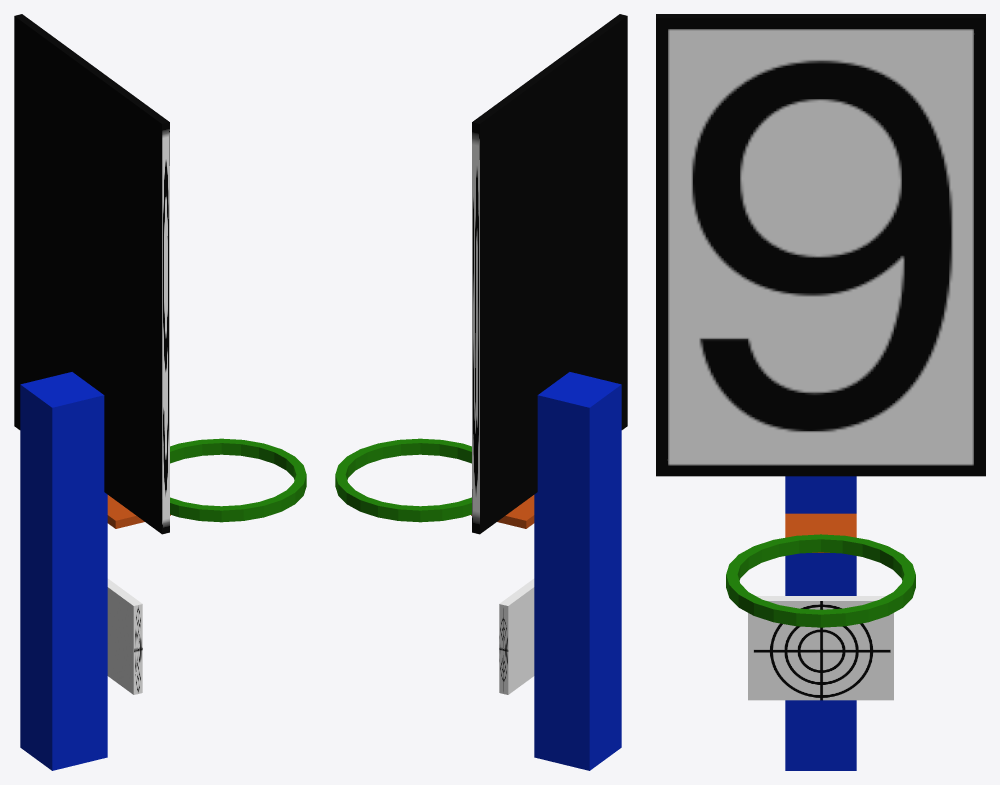
The model's file is sick_robot_day_2014_target_station_complete_9.dae.
3 views of the same model, side by side, from view 1: azimuth 30°, elevation 25°; view 2: azimuth 150°, elevation 25°; view 3: azimuth 270°, elevation 25° (orthographic). The views are drawn at different scales.
Visible parts, largest first — view 1: Cube, Cube_003, Cylinder, Cube_001, Cube_004; view 2: Cube, Cube_003, Cylinder, Cube_001, Cube_004; view 3: Cube, Cube_001, Cube_003, Cylinder, Cube_004.
Part boxes in pixels (box(x1,y1,x2,y2)): Cube: box(14, 14, 169, 534); Cube_003: box(20, 372, 107, 770); Cylinder: box(170, 438, 306, 522); Cube_001: box(107, 578, 142, 694); Cube_004: box(107, 495, 170, 528); Cube: box(472, 14, 627, 534); Cube_003: box(534, 372, 621, 770); Cylinder: box(335, 438, 471, 522); Cube_001: box(499, 578, 534, 694); Cube_004: box(471, 495, 534, 528); Cube: box(656, 14, 985, 476); Cube_001: box(748, 596, 893, 700); Cube_003: box(785, 476, 856, 770); Cylinder: box(726, 534, 915, 627); Cube_004: box(785, 513, 856, 552).
Bounding box in the file's own units: 0.5801 × 0.5736 × 1.45.
Materials: 5 (2 with a texture image).
